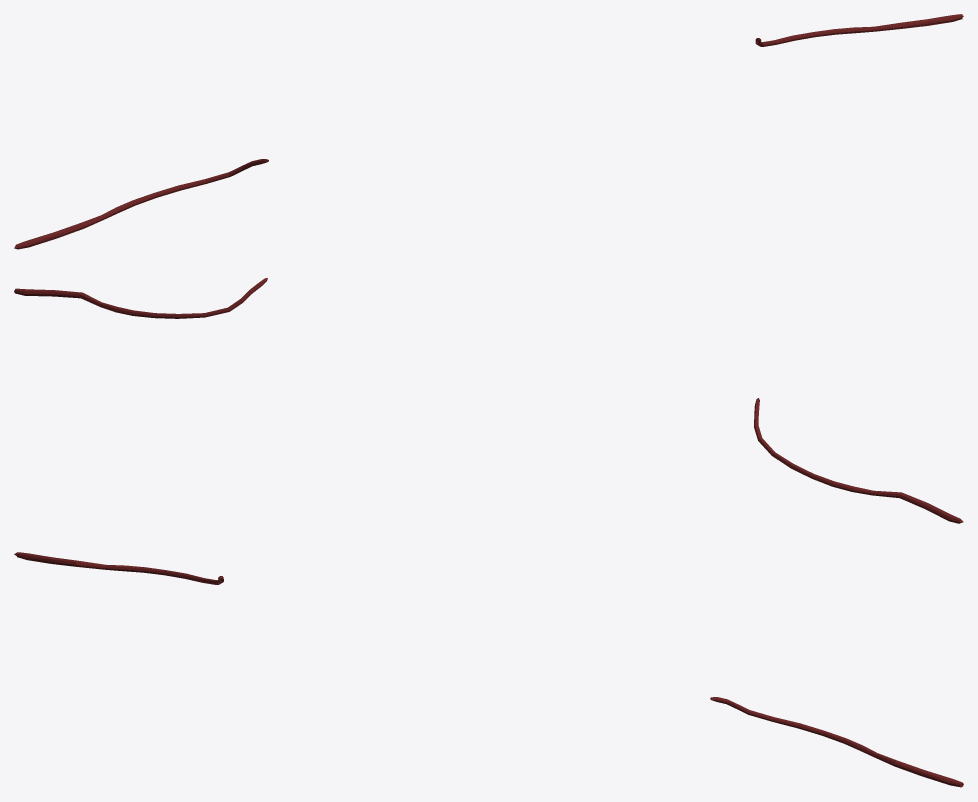
Rendered from Artéria Braquial Profunda.FBX.
The picture shows the model from 3 angles, top to bottom: view 1: azimuth 30°, elevation 25°; view 2: azimuth 150°, elevation 25°; view 3: azimuth 330°, elevation 25°; orthographic projection.
Visible parts, largest first — view 1: CS_Arterie; view 2: CS_Arterie; view 3: CS_Arterie.
Boxes of the visible parts, x1,y1,x2,y2 form: CS_Arterie: (14,14,963,249); CS_Arterie: (14,278,963,523); CS_Arterie: (14,552,963,787).
Bounding box in the file's own units: 2772 × 147 × 159.
